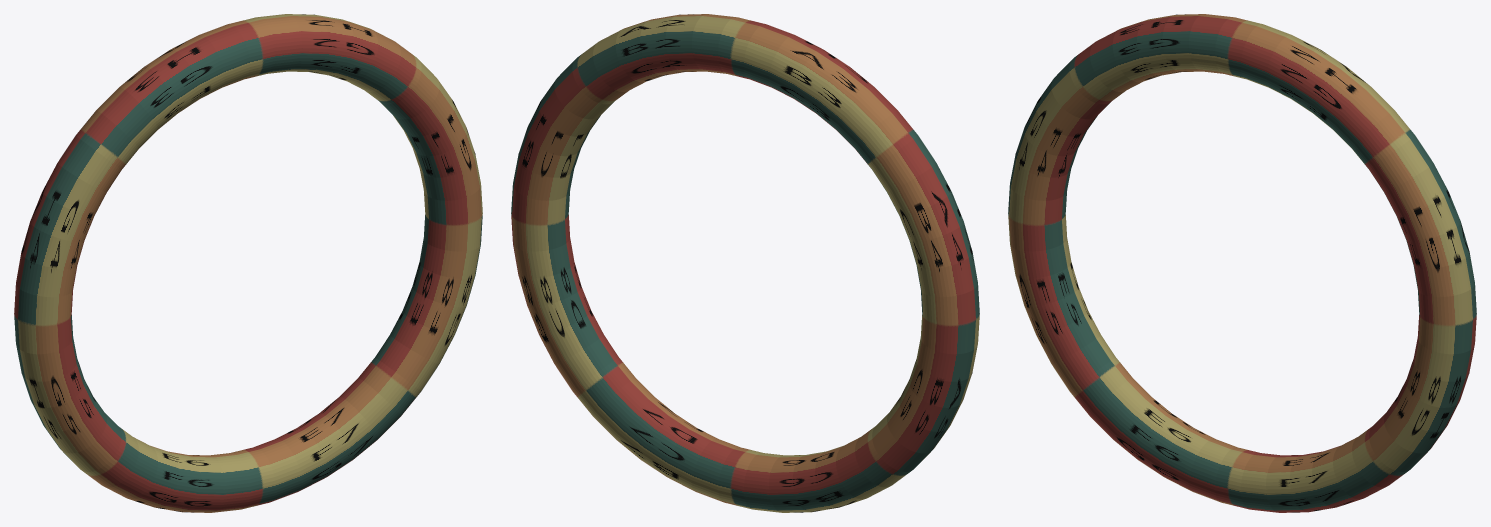
Rendered from texture_torus_R13_r1.glb.
3 views of the same model, side by side, from view 1: azimuth 30°, elevation 25°; view 2: azimuth 150°, elevation 25°; view 3: azimuth 330°, elevation 25° (orthographic).
Visible parts, largest first — view 1: world; view 2: world; view 3: world.
Boxes of the visible parts, left/top/right/bottom form: world: left=14, top=14, right=482, bottom=512; world: left=511, top=14, right=979, bottom=512; world: left=1008, top=14, right=1476, bottom=512.
Size of the model in its own units: 20.93 by 20.89 by 2.26.
Materials: 1 (1 with a texture image).
